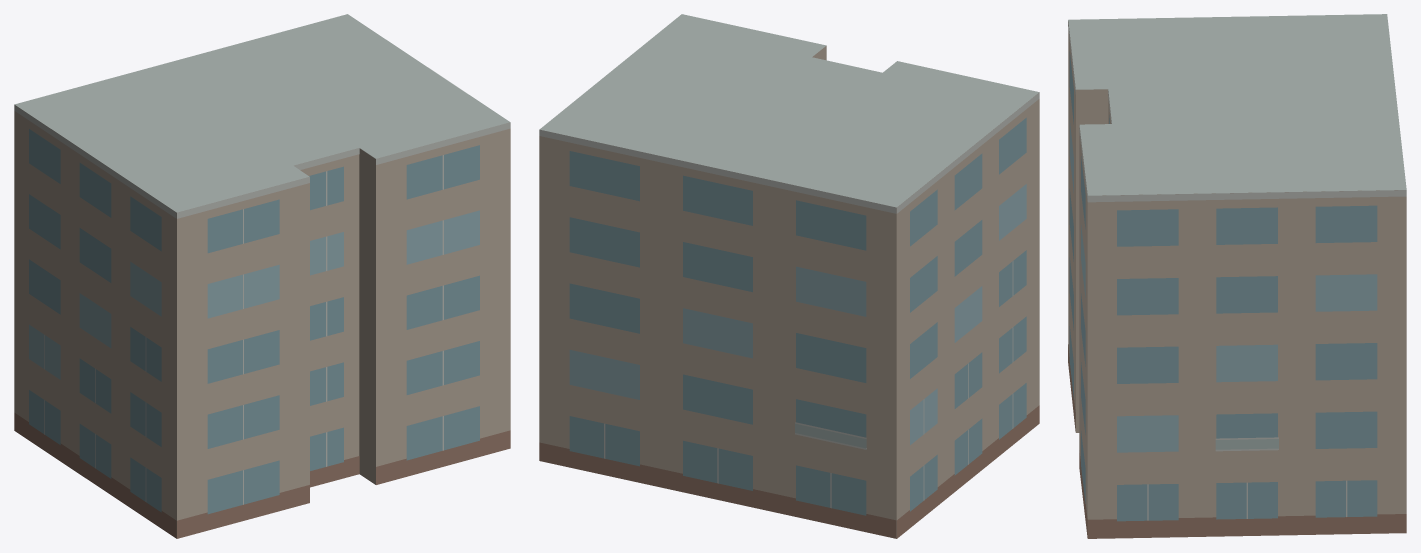
File: survey-upis-32621029.glb
3 renders of one model, left to right at view 1: azimuth 30°, elevation 25°; view 2: azimuth 150°, elevation 25°; view 3: azimuth 270°, elevation 25°, orthographic. The views are drawn at different scales.
Visible parts, largest first — view 1: survey-upis-32621029.tmp; view 2: survey-upis-32621029.tmp; view 3: survey-upis-32621029.tmp.
Part boxes in pixels (left/top/right/bottom): survey-upis-32621029.tmp: left=14, top=14, right=510, bottom=538; survey-upis-32621029.tmp: left=539, top=14, right=1039, bottom=538; survey-upis-32621029.tmp: left=1068, top=14, right=1406, bottom=538.
Bounding box in the file's own units: 14.43 × 12.7 × 11.36.
